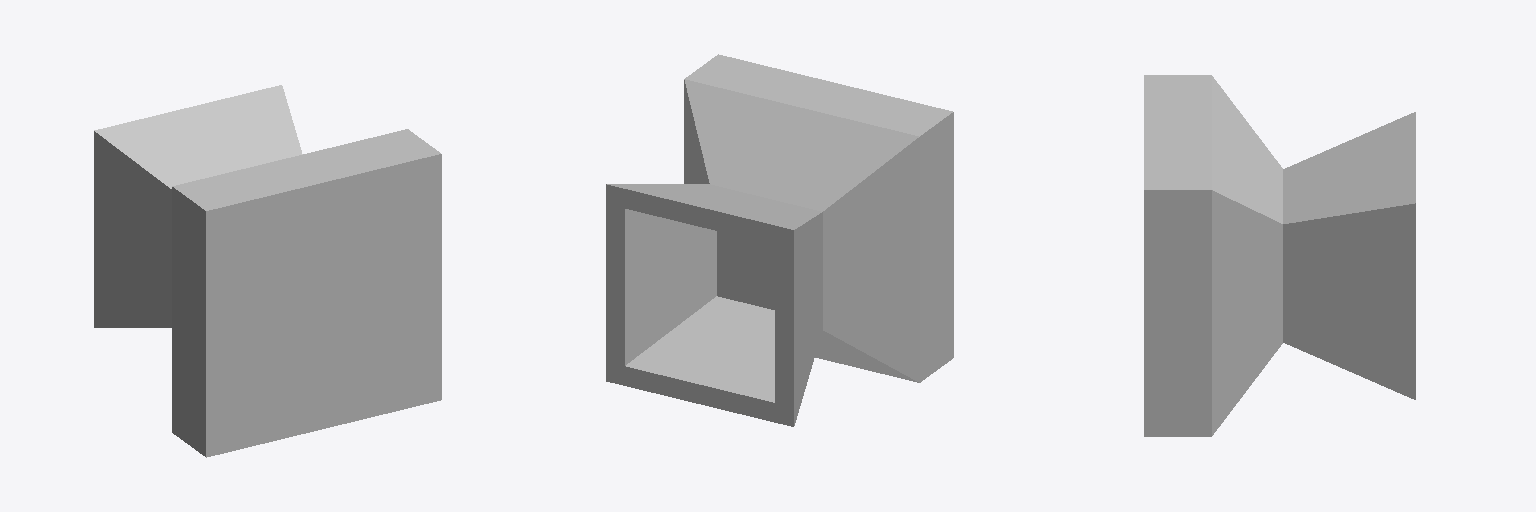
The model's file is thruster_rocket.obj.
3 views of the same model, side by side, from view 1: azimuth 30°, elevation 25°; view 2: azimuth 150°, elevation 25°; view 3: azimuth 270°, elevation 25° (orthographic).
Visible parts, largest first — view 1: thruster_rocket_Cube; view 2: thruster_rocket_Cube; view 3: thruster_rocket_Cube.
Part boxes in pixels (x1,y1,x2,y2): thruster_rocket_Cube: (94, 85, 441, 457); thruster_rocket_Cube: (606, 54, 953, 426); thruster_rocket_Cube: (1144, 75, 1415, 436).
Size of the model in its own units: 1 by 1 by 1.